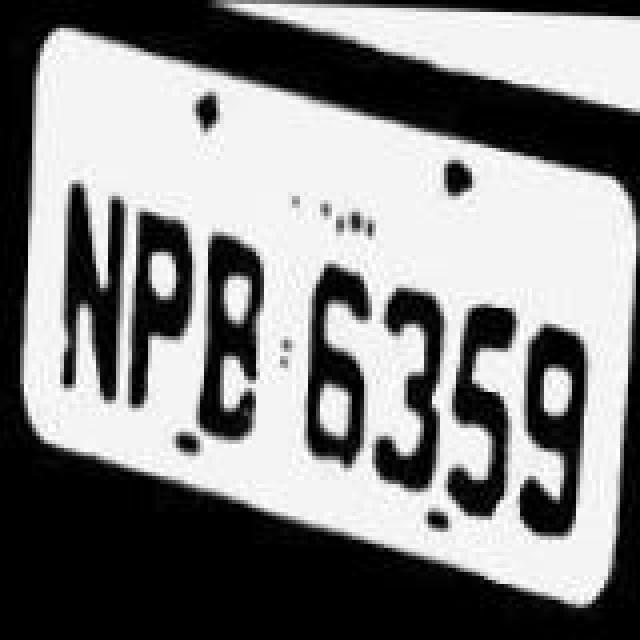3: (366, 260, 446, 496)
5: (444, 250, 520, 534)
6: (292, 250, 376, 506)
9: (514, 278, 594, 546)
B: (192, 222, 272, 446)
N: (46, 134, 134, 426)
P: (118, 178, 194, 434)
